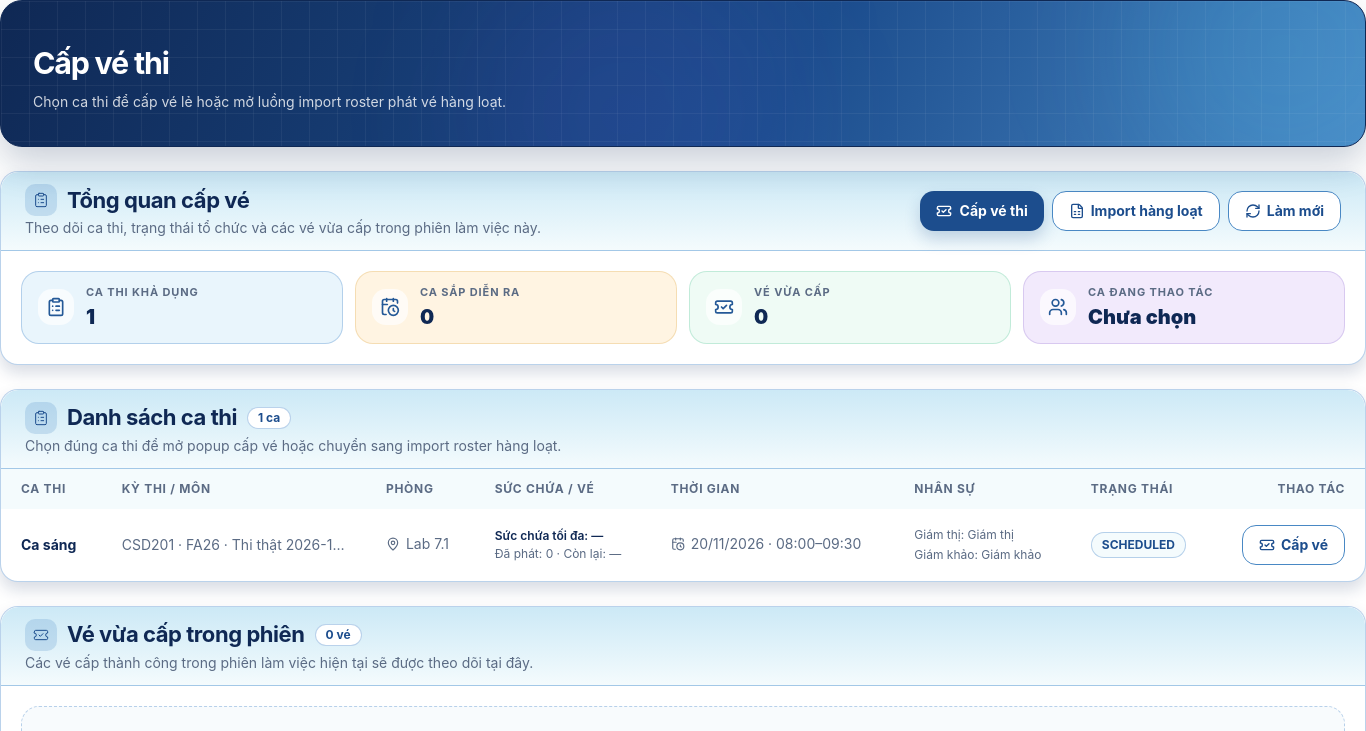
Scenario: ExaminationOfficerTicketAssignmentPage › opens the dialog for the row action with that shift preselected
The image size is (1366, 731).
Click the button "Cấp vé". click: (1293, 545)
box: [1242, 525, 1345, 565]
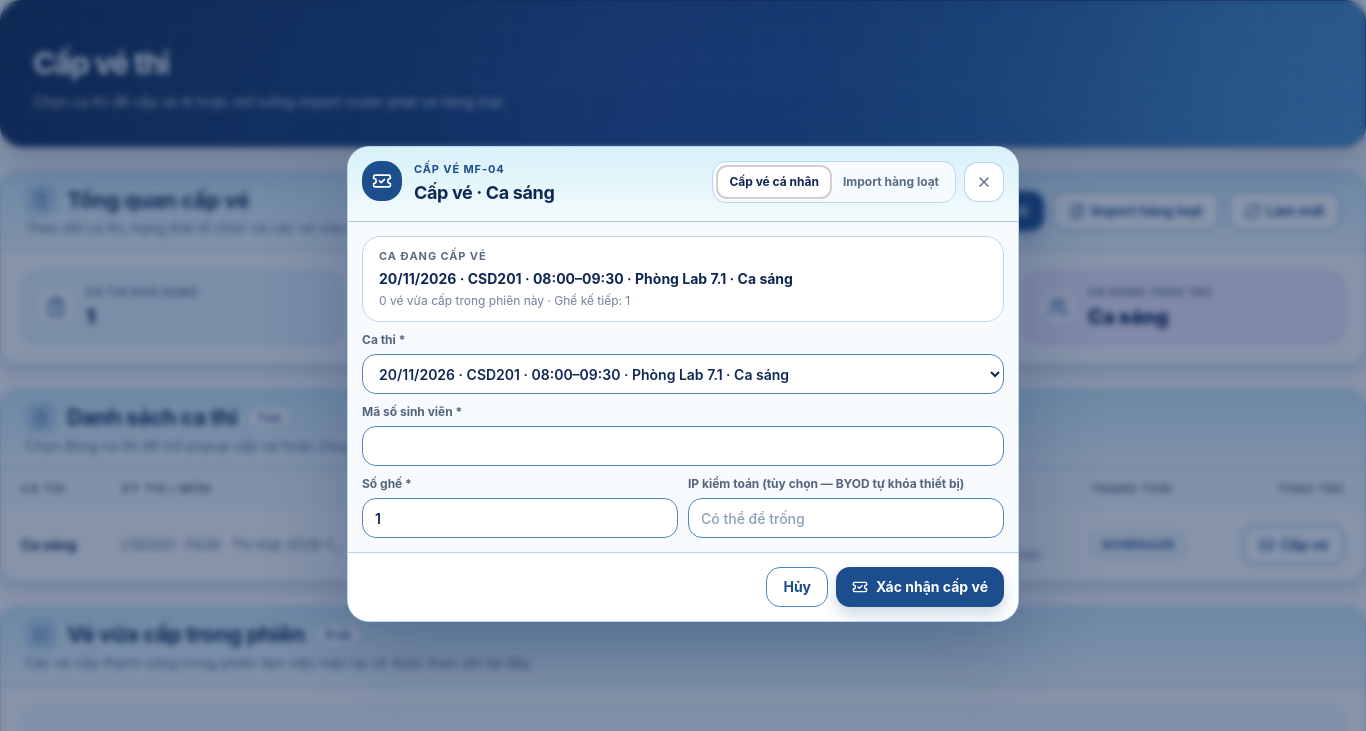
Result: the dialog is shown at [347, 146, 1019, 622]
Result: the dropdown labelled "Ca thi *" shows "20/11/2026 · CSD201 · 08:00–09:30 · Phòng Lab 7.1 · Ca sáng" at [362, 354, 1004, 394]
